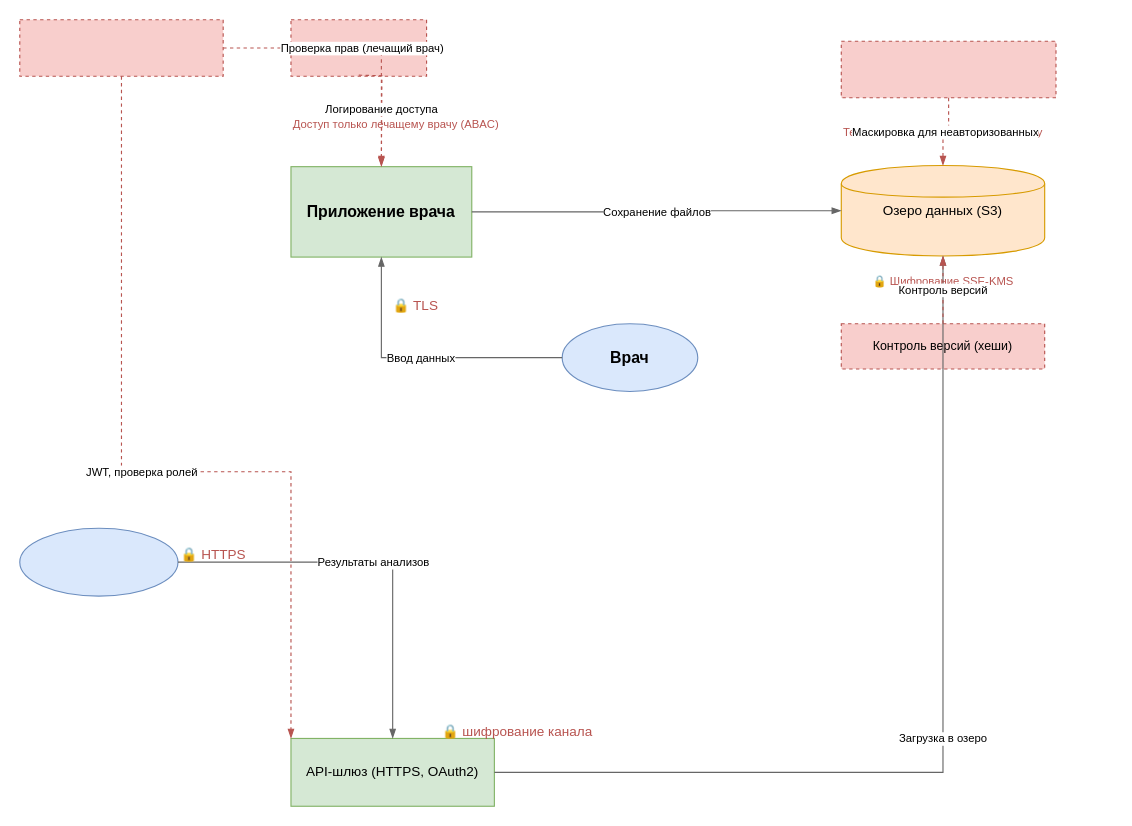
Image size: 1132x826. Some labels were removed from this diagram. The centre of each missing label's shape, as x and y in pixels:
Data Masking (для неавторизованных): [948,69]
Policy Enforcement Point (ABAC): [121,47]
Лаборатория (внешняя): [98,561]
